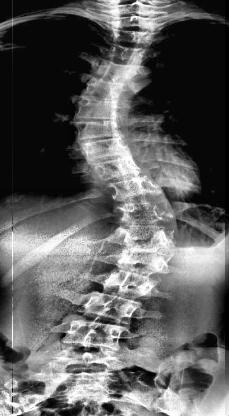Vertebrae: (66, 320, 132, 352), (85, 290, 144, 324), (98, 270, 161, 300), (106, 196, 180, 221), (112, 249, 176, 276), (118, 226, 182, 250), (104, 176, 166, 198), (88, 162, 150, 181), (76, 118, 128, 140), (110, 24, 158, 46), (78, 97, 132, 116), (92, 60, 138, 82), (83, 140, 130, 160), (88, 78, 132, 98), (108, 42, 146, 62)
